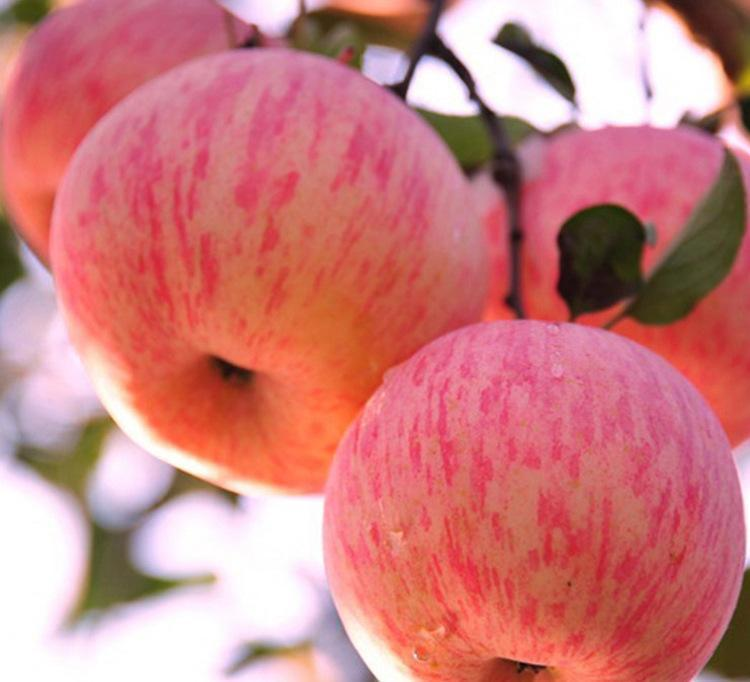apple: (40, 51, 507, 505), (312, 322, 742, 677), (4, 2, 243, 268)
